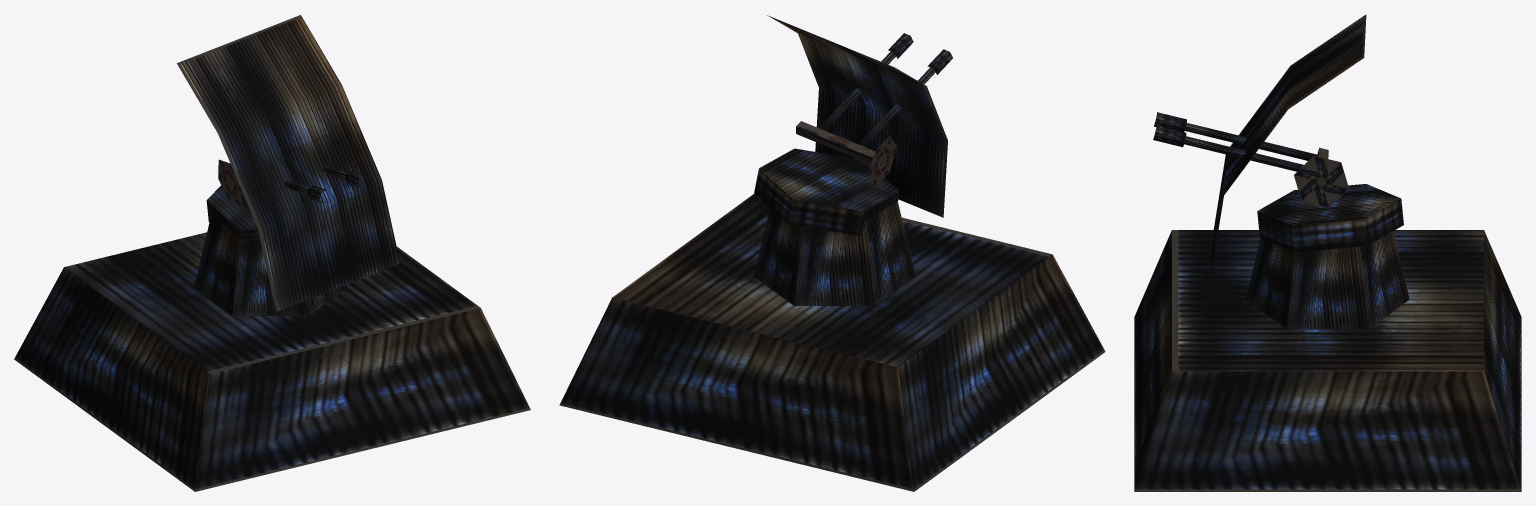
The model's file is aagunruin.gltf.
3 views of the same model, side by side, from view 1: azimuth 30°, elevation 25°; view 2: azimuth 150°, elevation 25°; view 3: azimuth 270°, elevation 25° (orthographic). The views are drawn at different scales.
Parts seen in each view (by area): view 1: aagunruin_atomic1, aagunruin_atomic0; view 2: aagunruin_atomic1, aagunruin_atomic0; view 3: aagunruin_atomic1, aagunruin_atomic0.
Part boxes in pixels (x1,y1,x2,y2): aagunruin_atomic1: [14, 214, 530, 491]; aagunruin_atomic0: [177, 15, 400, 311]; aagunruin_atomic1: [559, 193, 1105, 491]; aagunruin_atomic0: [754, 15, 952, 235]; aagunruin_atomic1: [1134, 230, 1521, 491]; aagunruin_atomic0: [1153, 14, 1403, 285].
Size of the model in its own units: 24.67 by 24.33 by 23.05.
Materials: 1 (1 with a texture image).
